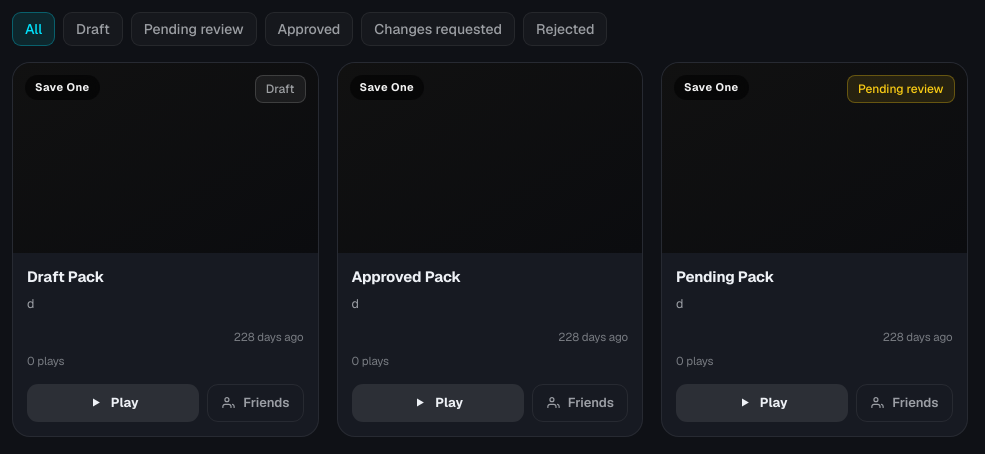
Scenario: AuthorPackList › status filter chips (own profile only) › filters the visible packs client-side without refetching
Expected: the heading "Draft Pack" is shown, [27,267,104,286]
Step 1. Click the button "Draft" → (93, 29), box [63,12,123,46]
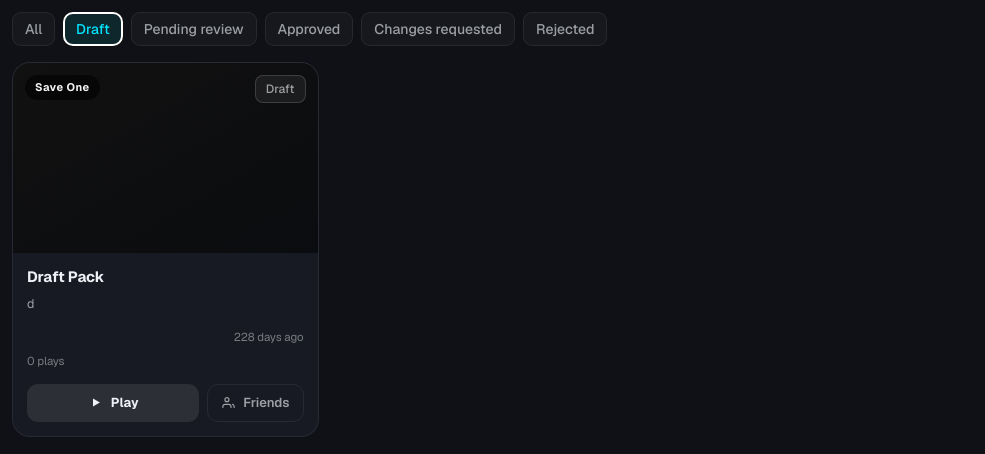
Expected: the heading "Draft Pack" is shown, [27,267,104,286]
Expected: the link "Approved Pack" is gone
Expected: the link "Pending Pack" is gone
